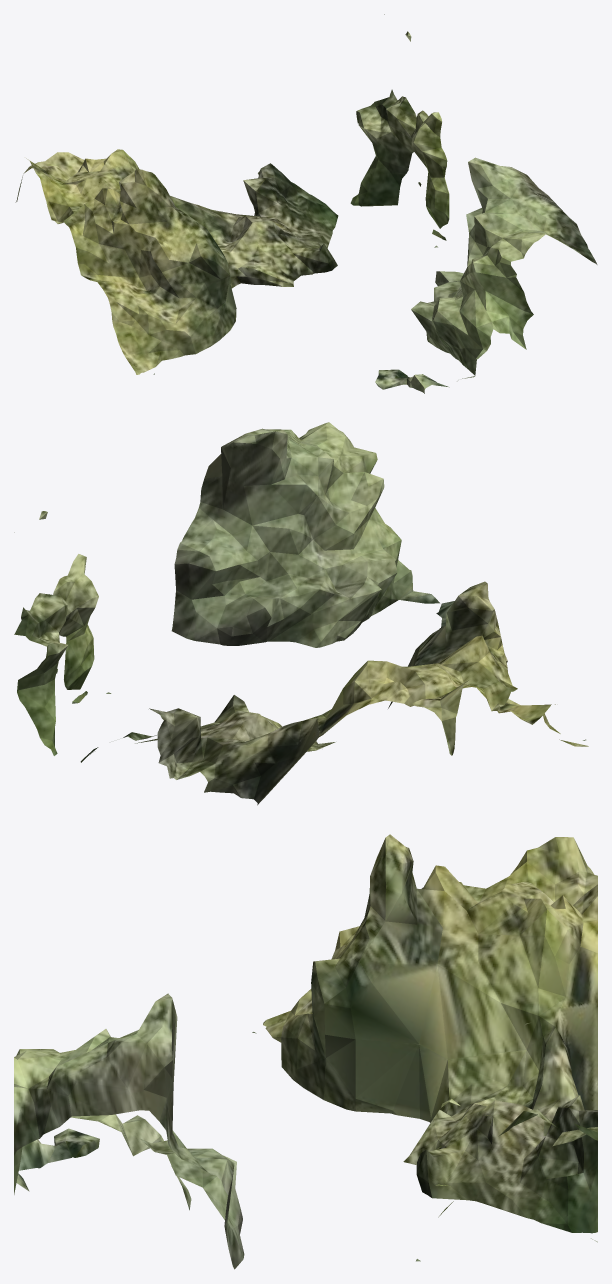
The picture shows the model from 3 angles, top to bottom: view 1: azimuth 30°, elevation 25°; view 2: azimuth 150°, elevation 25°; view 3: azimuth 270°, elevation 25°; orthographic projection. The views are drawn at different scales.
Size of the model in its own units: 11.8 by 5.52 by 11.8.
2 materials, 2 textured.
